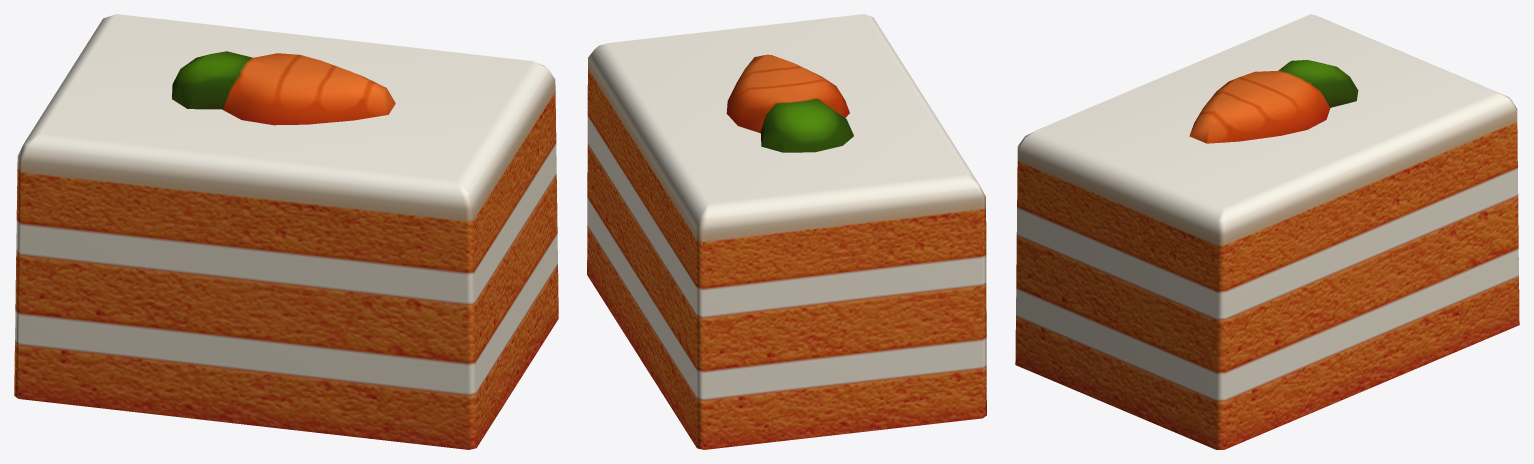
Rendered from 009-Cakes04.FBX.
3 renders of one model, left to right at view 1: azimuth 30°, elevation 25°; view 2: azimuth 150°, elevation 25°; view 3: azimuth 270°, elevation 25°, orthographic. The views are drawn at different scales.
Visible parts, largest first — view 1: 009-Cakes04; view 2: 009-Cakes04; view 3: 009-Cakes04.
Part boxes in pixels (box(x1,y1,x2,y2)): 009-Cakes04: box(14, 14, 558, 449); 009-Cakes04: box(587, 14, 986, 449); 009-Cakes04: box(1015, 14, 1519, 449).
Size of the model in its own units: 14.85 by 8.31 by 14.85.
